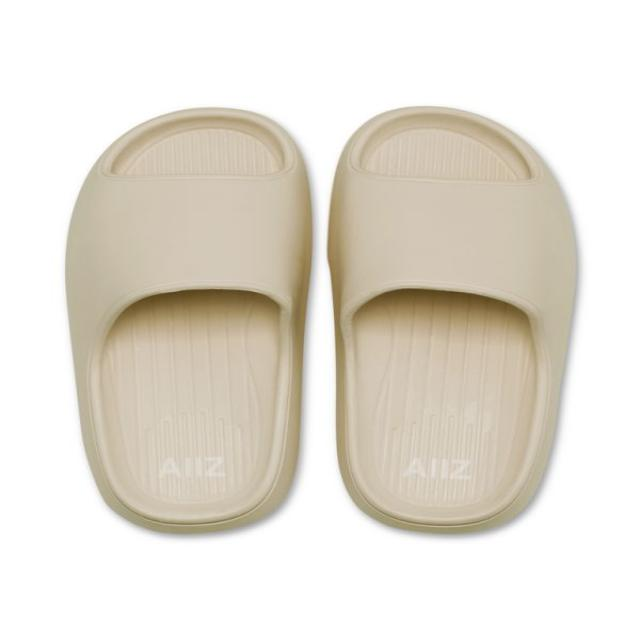Sandals: (59, 99, 586, 552)
